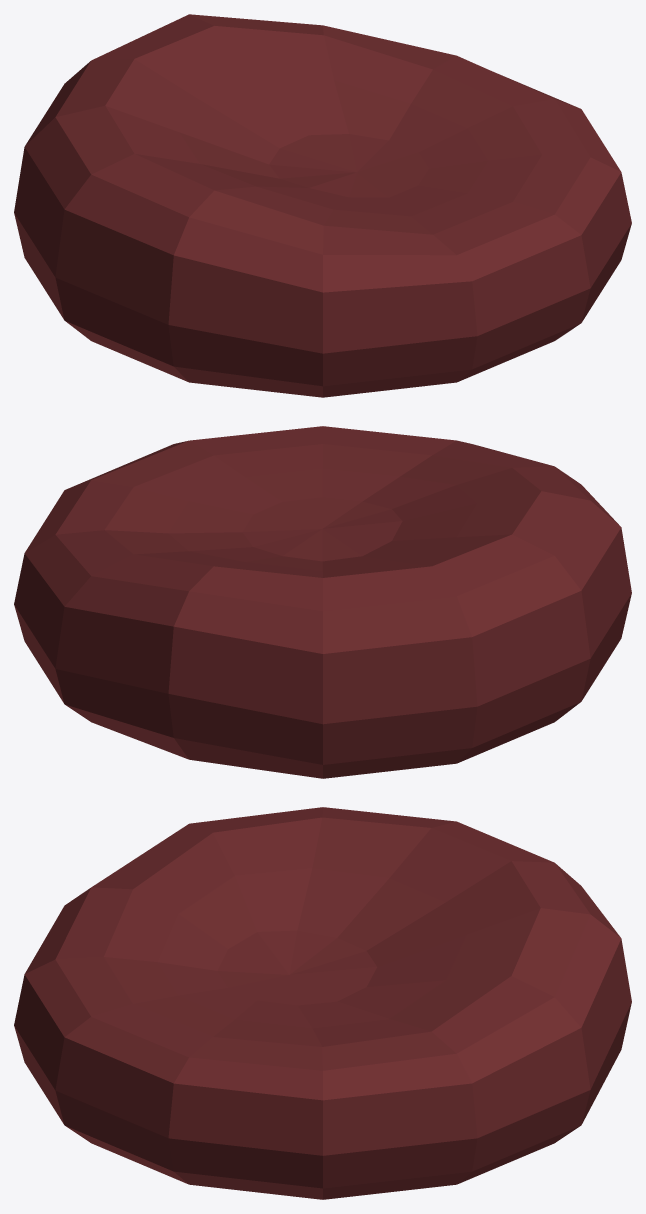
The model's file is SaccoChairV1Red.fbx.
The picture shows the model from 3 angles, top to bottom: view 1: azimuth 30°, elevation 25°; view 2: azimuth 150°, elevation 25°; view 3: azimuth 270°, elevation 25°; orthographic projection.
Visible parts, largest first — view 1: SaccoChairV1Red; view 2: SaccoChairV1Red; view 3: SaccoChairV1Red.
Part boxes in pixels (left/top/right/bottom): SaccoChairV1Red: left=14, top=14, right=631, bottom=397; SaccoChairV1Red: left=14, top=426, right=631, bottom=778; SaccoChairV1Red: left=14, top=807, right=631, bottom=1199.
Size of the model in its own units: 200 by 69.41 by 200.
